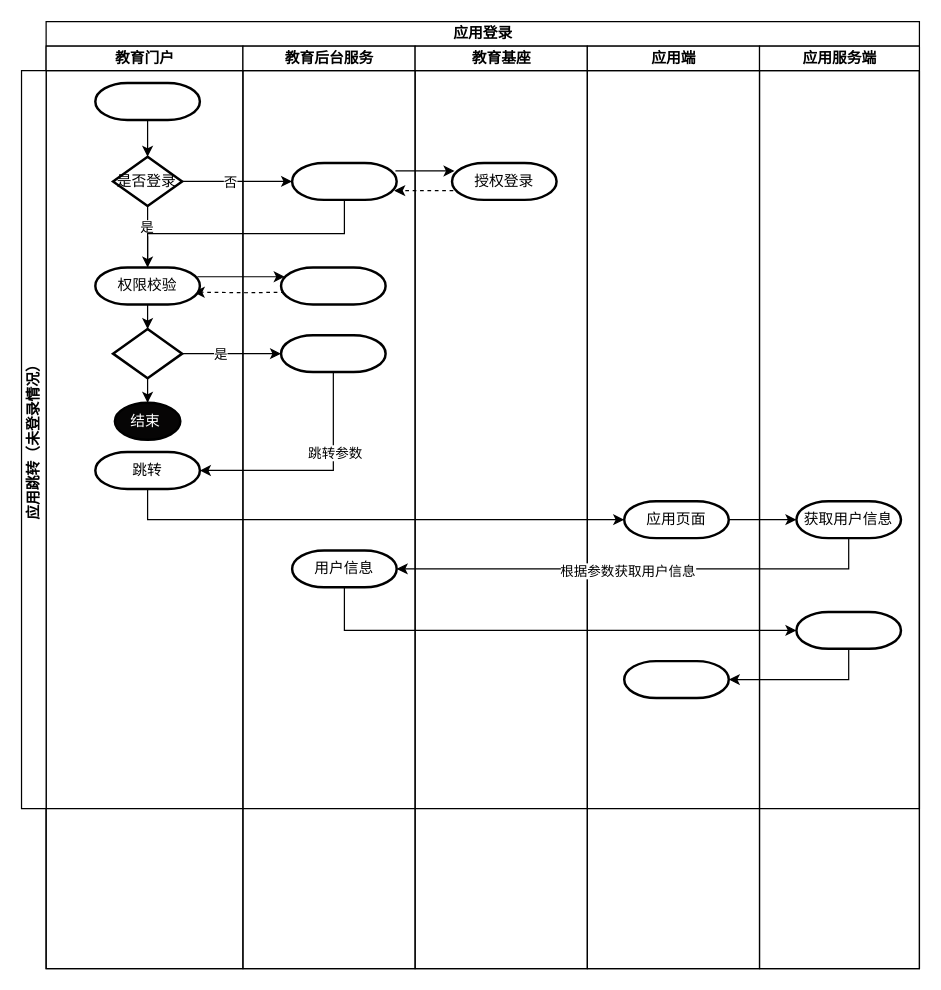
Some shapes in this 941 by 990 pixel diagram are drawn without their labels. The centre of each missing label's shape, as x and y in pixels:
"使用权限" goes at (147,353).
"完成登录" goes at (675,679).
"点击应用" goes at (146,101).
"生成登录态" goes at (848,629).
"用户、应用 校验" goes at (332,285).
"登录" goes at (343,180).
"获取code、state、type" goes at (332,353).
